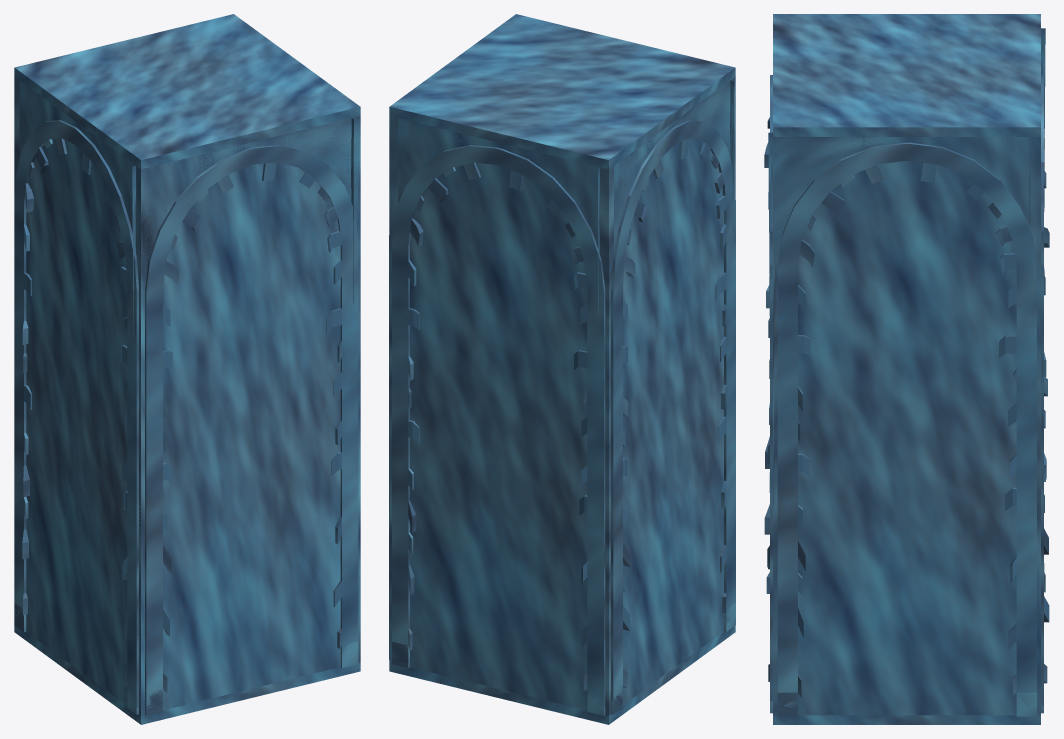
Rendered from frozen_caves.glb.
3 renders of one model, left to right at view 1: azimuth 30°, elevation 25°; view 2: azimuth 150°, elevation 25°; view 3: azimuth 270°, elevation 25°, orthographic. The views are drawn at different scales.
Parts seen in each view (by area): view 1: wall_up-col, wall_up.002-col, door_up-col, ceiling-col, door_up.001-col, floor-col, wall_up.001-col; view 2: wall_up.001-col, wall_up.002-col, ceiling-col, door_up.002-col, door_up.001-col, floor-col, door_up.003-col; view 3: wall_up.003-col, door_up.003-col, ceiling-col, door_up.002-col, floor-col, door_up-col.
Boxes of the visible parts, x1,y1,x2,y2 form: wall_up-col: (136,125,360,715); wall_up.002-col: (19,81,149,713); door_up-col: (132,116,360,715); ceiling-col: (14,14,360,169); door_up.001-col: (14,81,140,715); floor-col: (14,625,360,724); wall_up.001-col: (14,77,19,198); wall_up.001-col: (398,118,613,715); wall_up.002-col: (600,77,735,715); ceiling-col: (389,14,735,169); door_up.002-col: (392,119,605,715); door_up.001-col: (598,77,735,714); floor-col: (389,625,735,724); door_up.003-col: (389,116,398,662); wall_up.003-col: (775,137,1040,715); door_up.003-col: (768,132,1036,716); ceiling-col: (773,14,1040,136); door_up.002-col: (1029,74,1049,713); floor-col: (773,715,1040,724); door_up-col: (764,75,772,713).
Bounding box in the file's own units: 1.06 × 2.46 × 1.06.
Materials: 1 (1 with a texture image).
